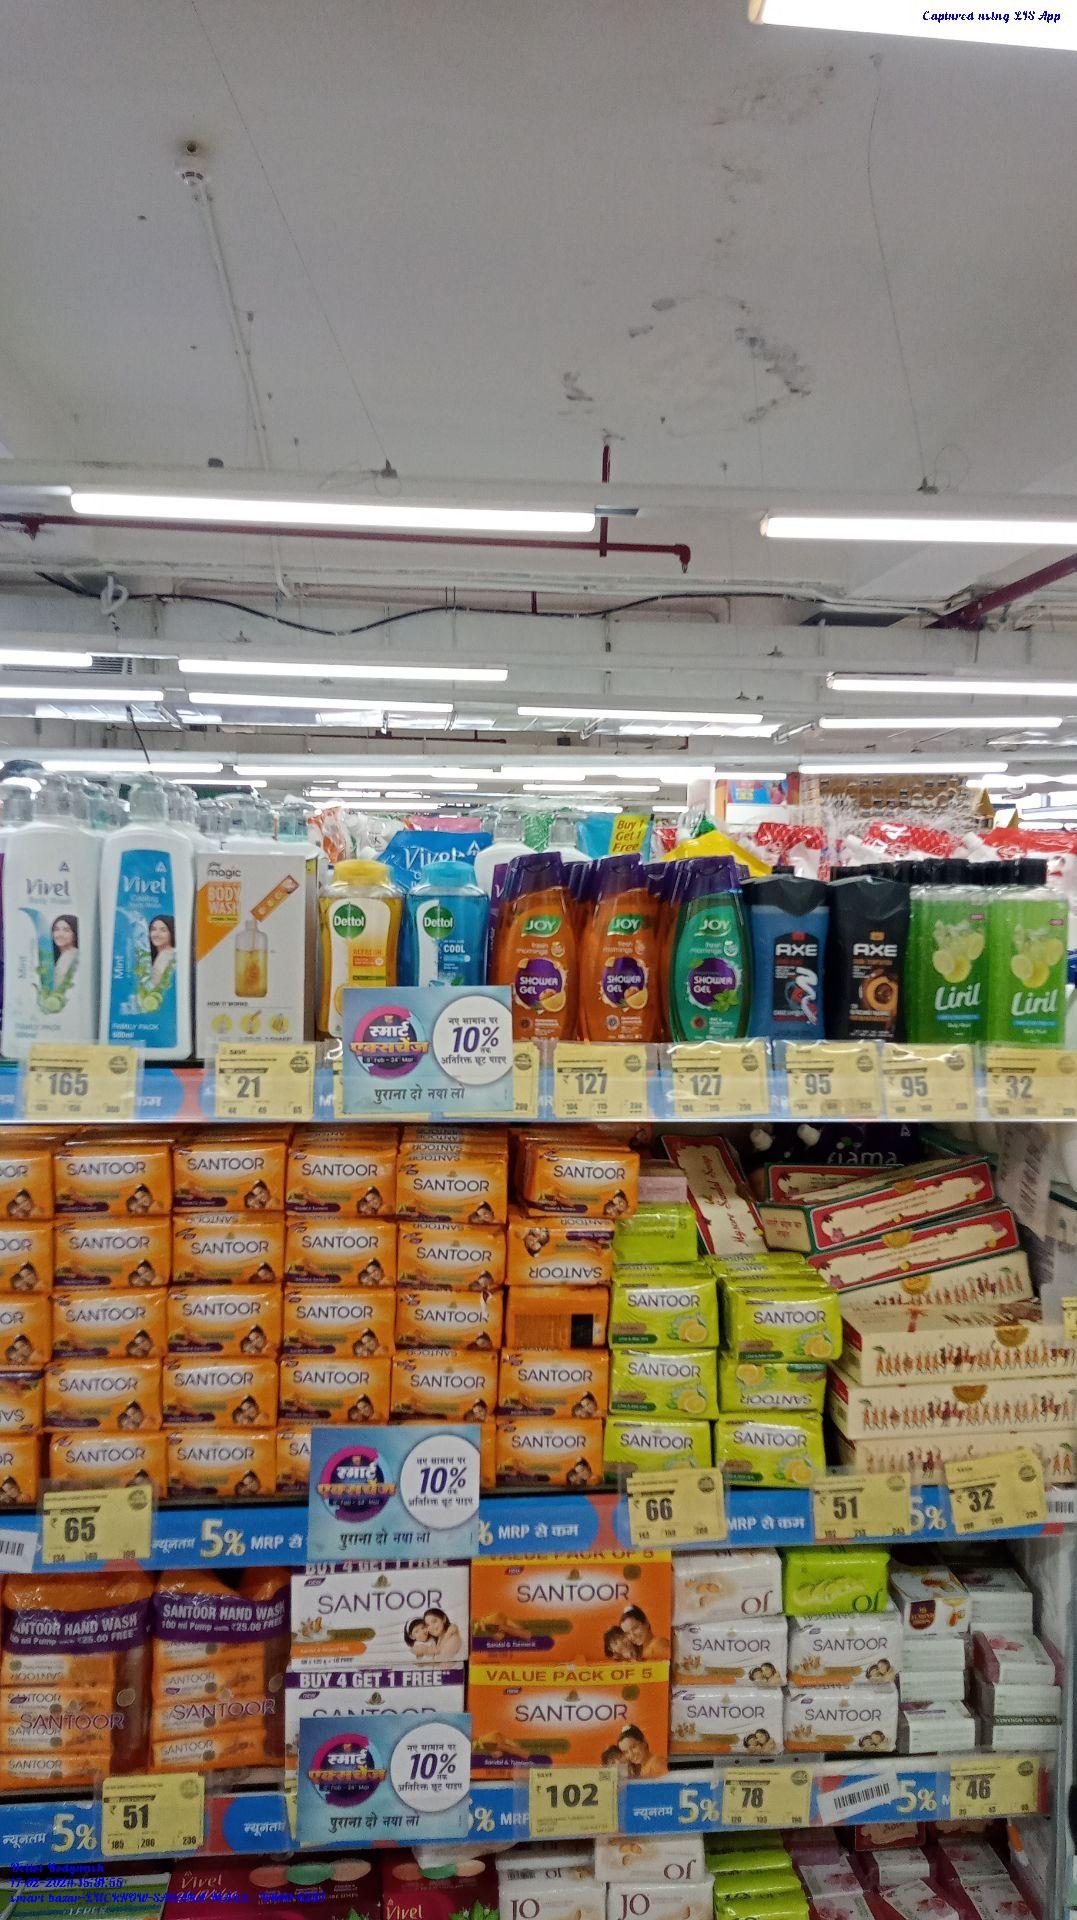Dettol_Bodywash_Cool: (409, 858, 486, 988)
Dettol_Bodywash_Refresh: (322, 861, 390, 1027)
Joy_Shower_Gel_Mandarin_and_Lemongrass_250ML: (583, 855, 659, 1042), (505, 847, 579, 1040)
Joy_Shower_Gel_Mint_and_Eucalyptus_250ML: (666, 853, 746, 1039)
Liril_Lime_and_Tea_Tree_Oil_Body_Wash_250ML: (994, 860, 1066, 1042), (914, 864, 986, 1040)
